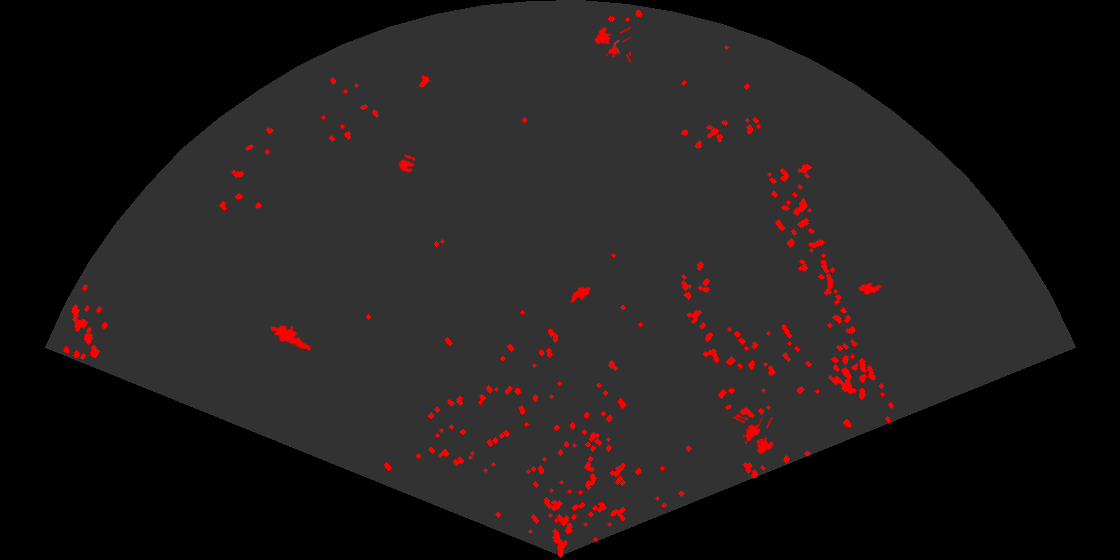AUV: (569, 285, 592, 305), (857, 281, 884, 296)
ball: (397, 153, 417, 175)
cage: (732, 417, 775, 456), (593, 25, 631, 65)
frogman: (271, 323, 314, 352)
